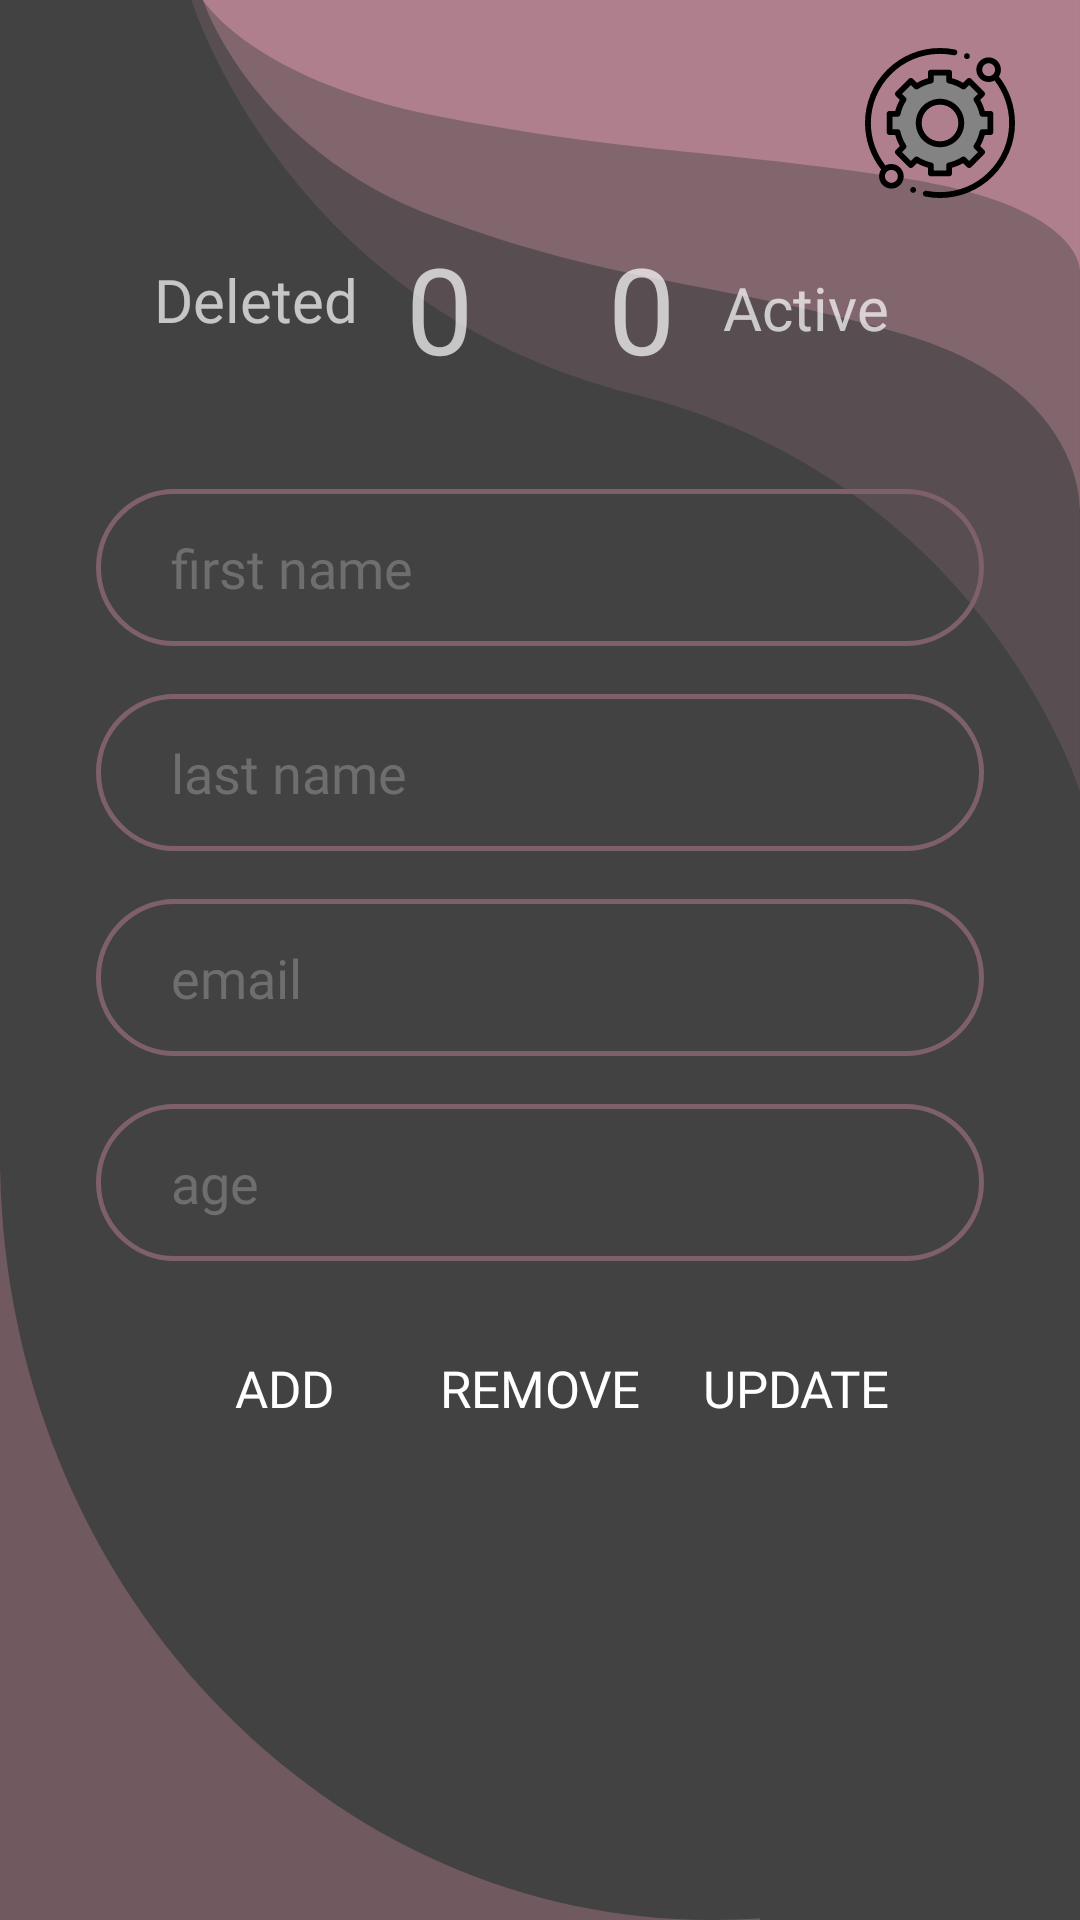

Icon bounding boxes for this 1080px×1920px phone screenshot, format (x1, y1, x2, y2):
technical support: (886, 53, 994, 177)
